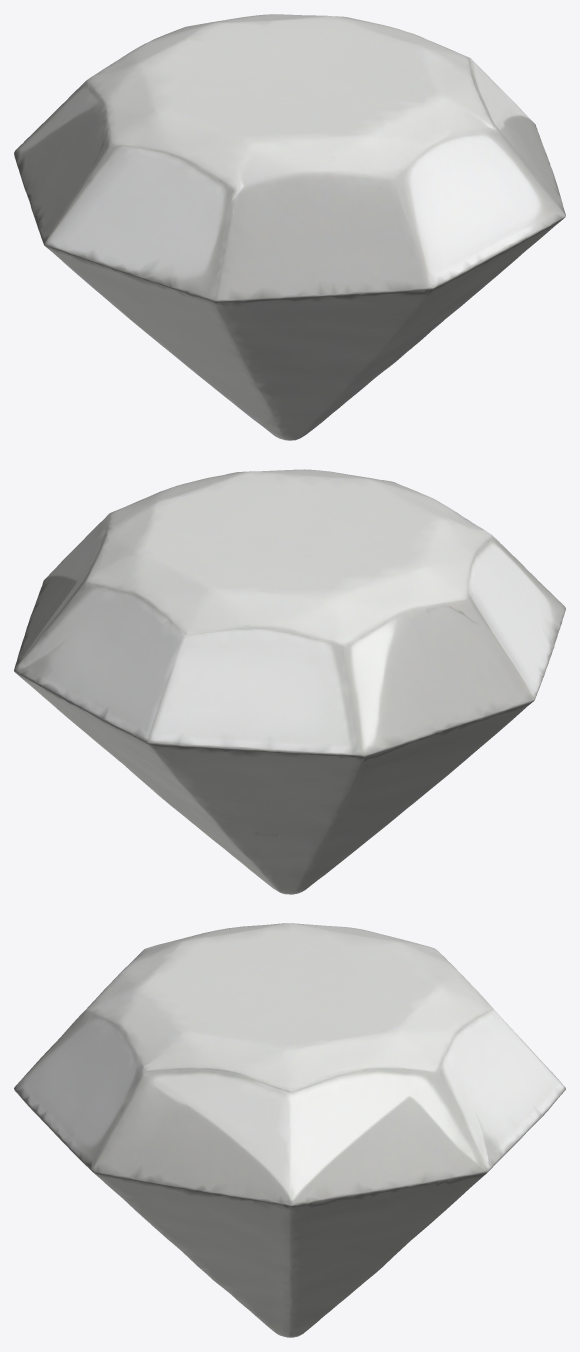
Rendered from Faceted_Gemstone_1120184422_texture.fbx.
3 renders of one model, top to bottom at view 1: azimuth 30°, elevation 25°; view 2: azimuth 150°, elevation 25°; view 3: azimuth 270°, elevation 25°, orthographic. The views are drawn at different scales.
Visible parts, largest first — view 1: Mesh1.0; view 2: Mesh1.0; view 3: Mesh1.0.
Boxes of the visible parts, x1,y1,x2,y2 form: Mesh1.0: (14, 14, 565, 440); Mesh1.0: (14, 469, 565, 894); Mesh1.0: (14, 923, 565, 1337).
Bounding box in the file's own units: 201 × 140 × 201.
1 material, 1 textured.
